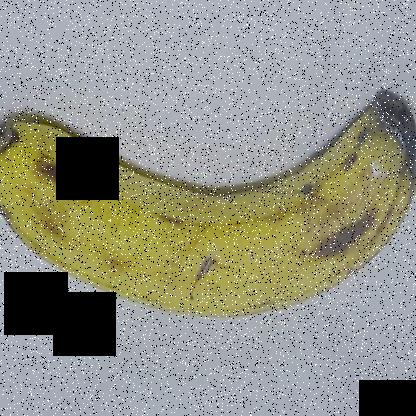ripe: (0, 77, 415, 335)
